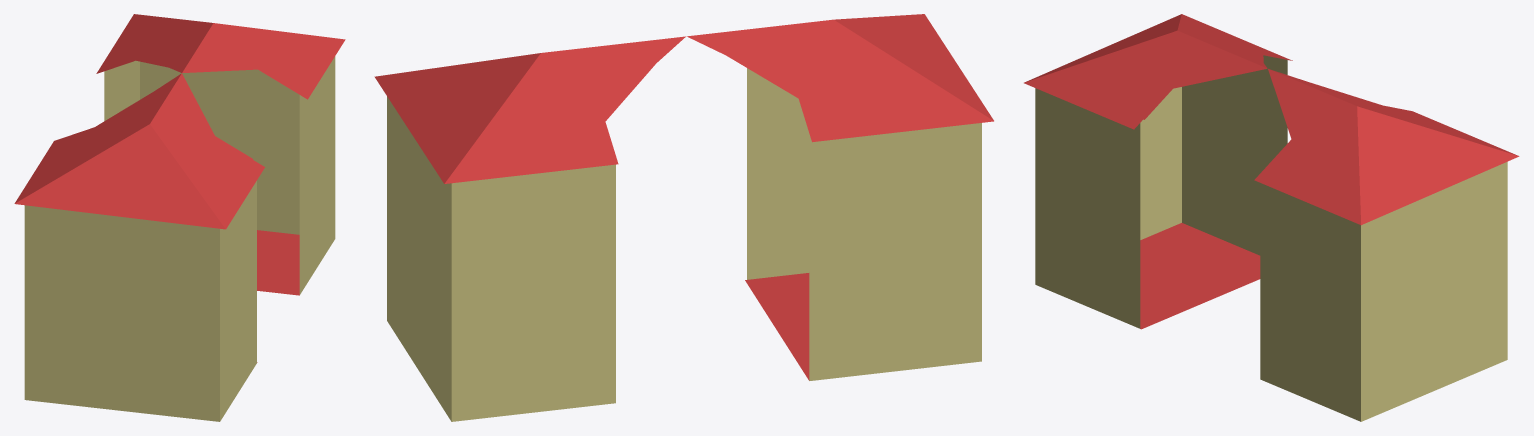
3 views of the same model, side by side, from view 1: azimuth 30°, elevation 25°; view 2: azimuth 150°, elevation 25°; view 3: azimuth 270°, elevation 25° (orthographic). The views are drawn at different scales.
Bounding box in the file's own units: 28.71 × 28.74 × 16.21.
